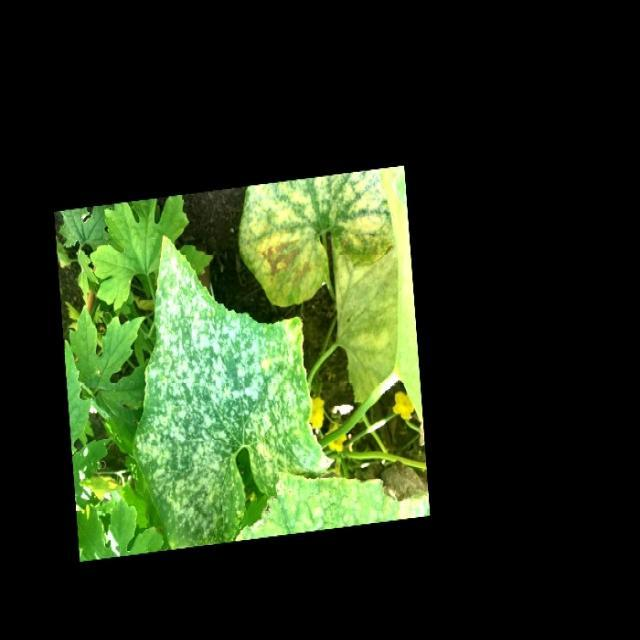Leaf_Mold: (134, 219, 322, 547), (243, 453, 433, 544)
